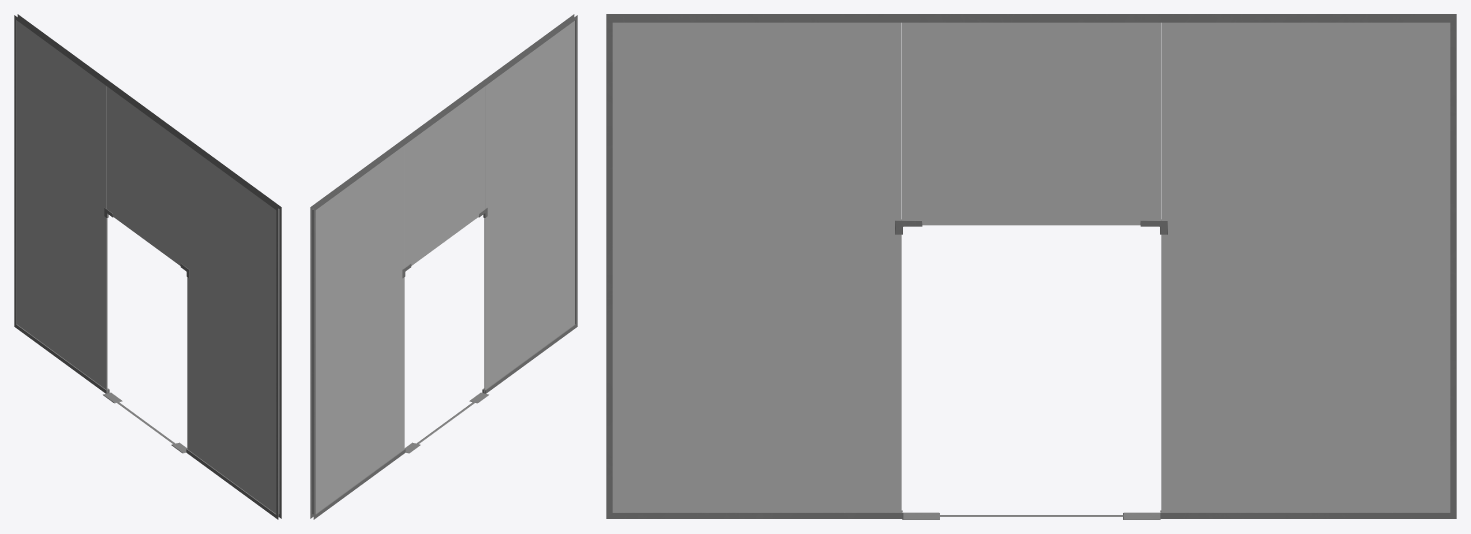
File: SM_StoreFront_Glass_700.fbx
The picture shows the model from 3 angles, left to right: view 1: azimuth 30°, elevation 25°; view 2: azimuth 150°, elevation 25°; view 3: azimuth 270°, elevation 25°; orthographic projection. The views are drawn at different scales.
Parts seen in each view (by area): view 1: SM_StoreFront_Glass_700_LOD0; view 2: SM_StoreFront_Glass_700_LOD0; view 3: SM_StoreFront_Glass_700_LOD0.
Part boxes in pixels (left/top/right/bottom): SM_StoreFront_Glass_700_LOD0: left=14, top=14, right=281, bottom=519; SM_StoreFront_Glass_700_LOD0: left=310, top=14, right=577, bottom=519; SM_StoreFront_Glass_700_LOD0: left=606, top=14, right=1456, bottom=519.
Size of the model in its own units: 12.27 by 660 by 430.
